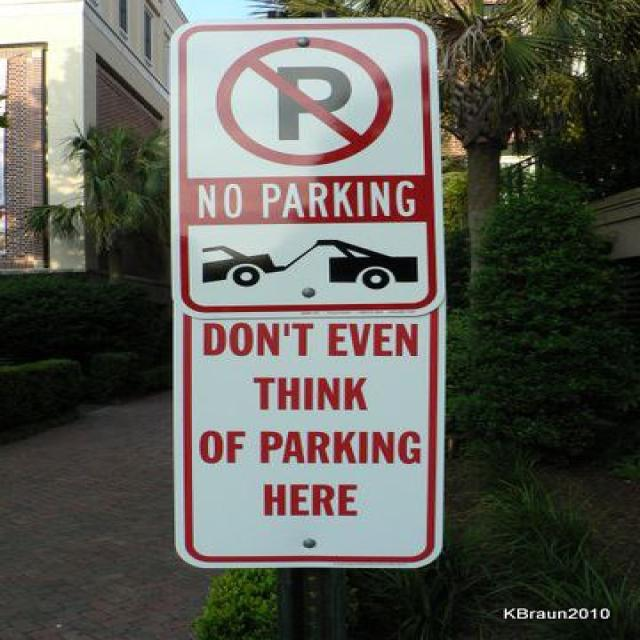No_parking: (219, 40, 393, 168)
